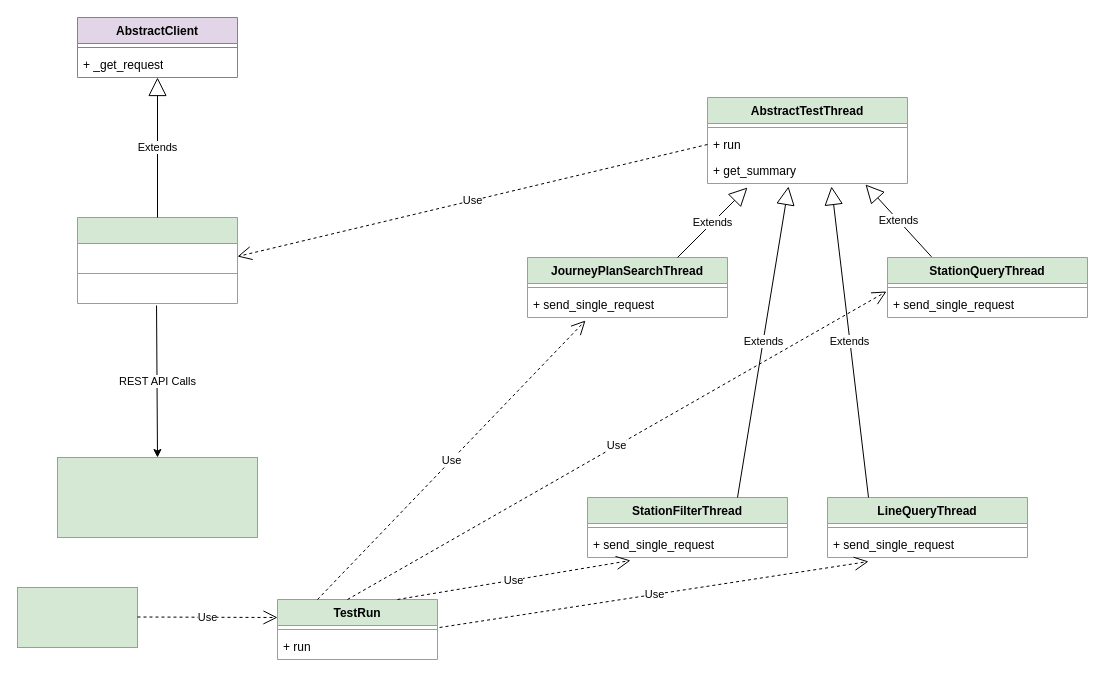
Image size: 1105x680. Some labels were removed from this diagram. Each missing label, with the centre of its shape:
"main.py" belongs at pixel 77 617.
"query-service (REST API)" belongs at pixel 157 497.
"QueryServiceClient" belongs at pixel 157 260.
